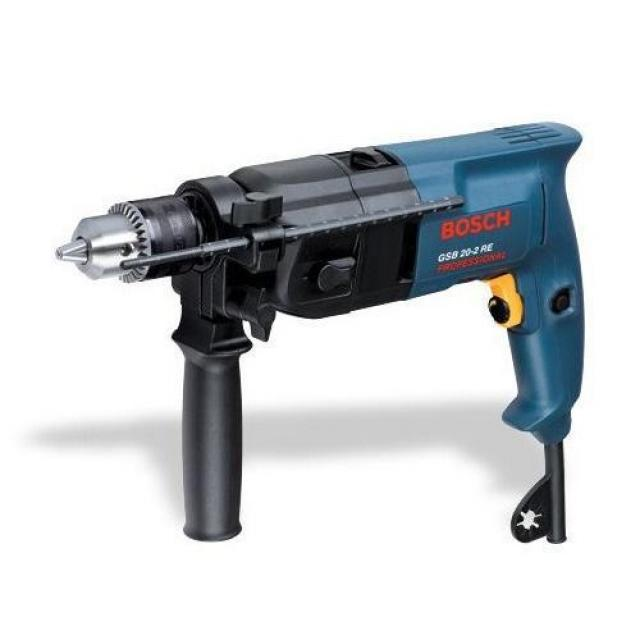drill: (56, 121, 588, 542)
